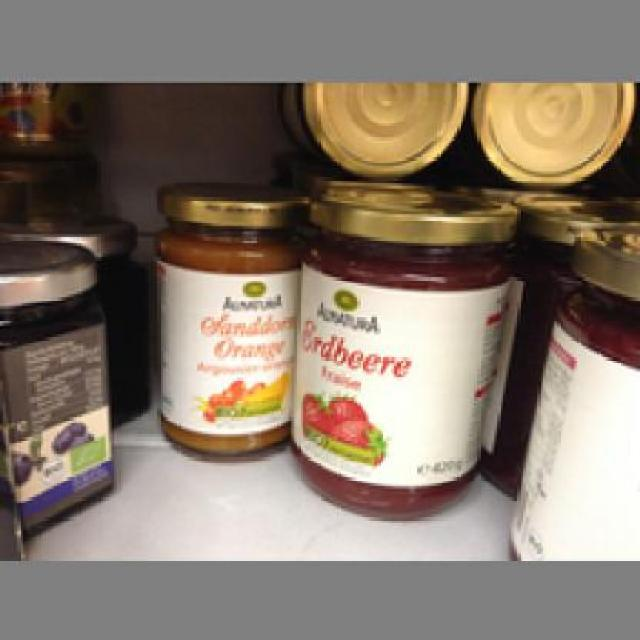Jam: (292, 188, 518, 514), (152, 177, 294, 460), (0, 230, 115, 546)
